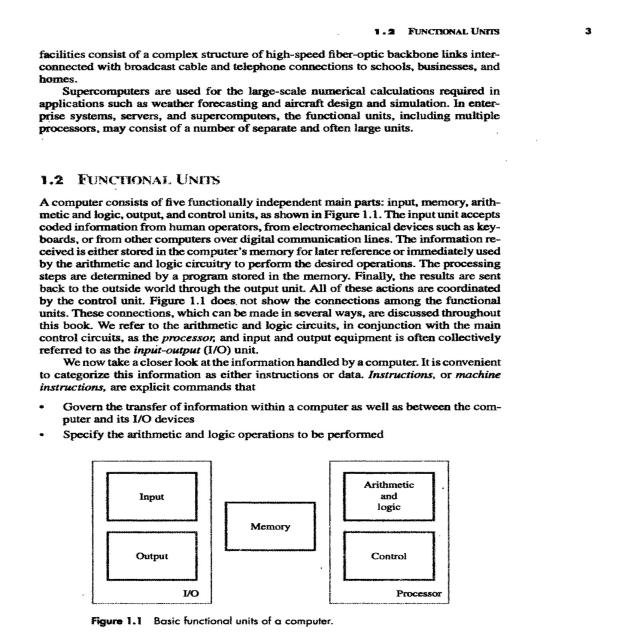diagram: (44, 450, 479, 629)
